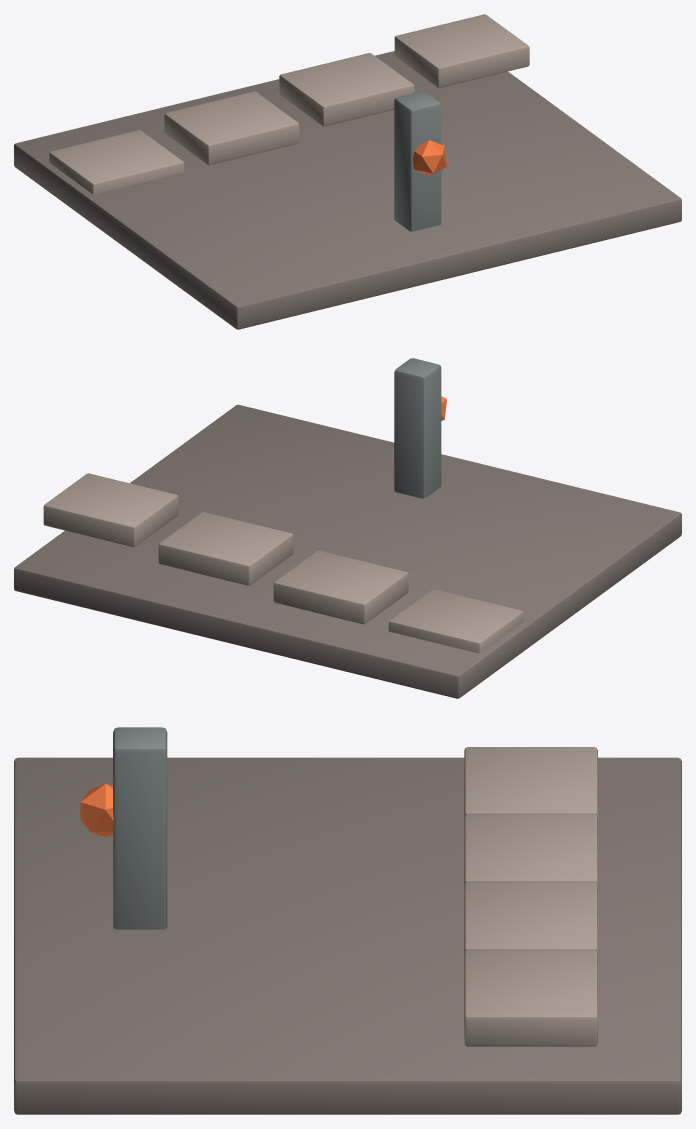
Rendered from biome_ashen_bough_landing_v1.glb.
3 views of the same model, one above another, from view 1: azimuth 30°, elevation 25°; view 2: azimuth 150°, elevation 25°; view 3: azimuth 270°, elevation 25° (orthographic). The views are drawn at different scales.
Parts seen in each view (by area): view 1: LandingSlate, LandingStep3, LandingStep1, LandingStep2, LandingMarker, LandingStep0, LandingEmber; view 2: LandingSlate, LandingStep3, LandingStep1, LandingStep2, LandingMarker, LandingStep0; view 3: LandingSlate, LandingStep3, LandingMarker, LandingStep0, LandingStep1, LandingStep2, LandingEmber.
Boxes of the visible parts, left/top/right/bottom form: LandingSlate: left=14, top=51, right=681, bottom=329; LandingStep3: left=394, top=14, right=529, bottom=87; LandingStep1: left=164, top=91, right=299, bottom=165; LandingStep2: left=279, top=53, right=414, bottom=126; LandingMarker: left=394, top=91, right=441, bottom=231; LandingStep0: left=49, top=130, right=184, bottom=194; LandingEmber: left=412, top=140, right=446, bottom=175; LandingSlate: left=14, top=404, right=681, bottom=698; LandingStep3: left=43, top=473, right=178, bottom=546; LandingStep1: left=273, top=550, right=408, bottom=624; LandingStep2: left=158, top=512, right=293, bottom=585; LandingMarker: left=394, top=358, right=441, bottom=498; LandingStep0: left=388, top=589, right=523, bottom=653; LandingSlate: left=14, top=757, right=681, bottom=1114; LandingStep3: left=464, top=951, right=597, bottom=1046; LandingMarker: left=113, top=727, right=167, bottom=929; LandingStep0: left=464, top=747, right=597, bottom=817; LandingStep1: left=464, top=815, right=597, bottom=885; LandingStep2: left=464, top=883, right=597, bottom=953; LandingEmber: left=80, top=784, right=113, bottom=837.
Bounding box in the file's own units: 3.1 × 0.97 × 2.7.
